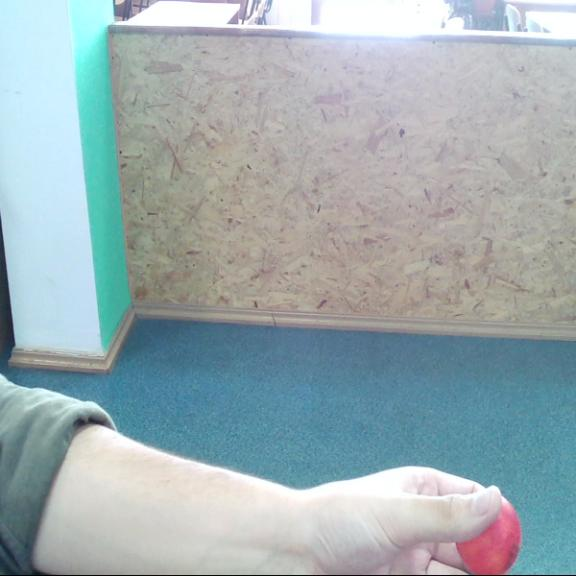ball: (456, 498, 522, 574)
